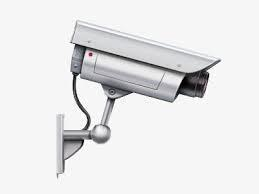tutu: (64, 14, 231, 125)
